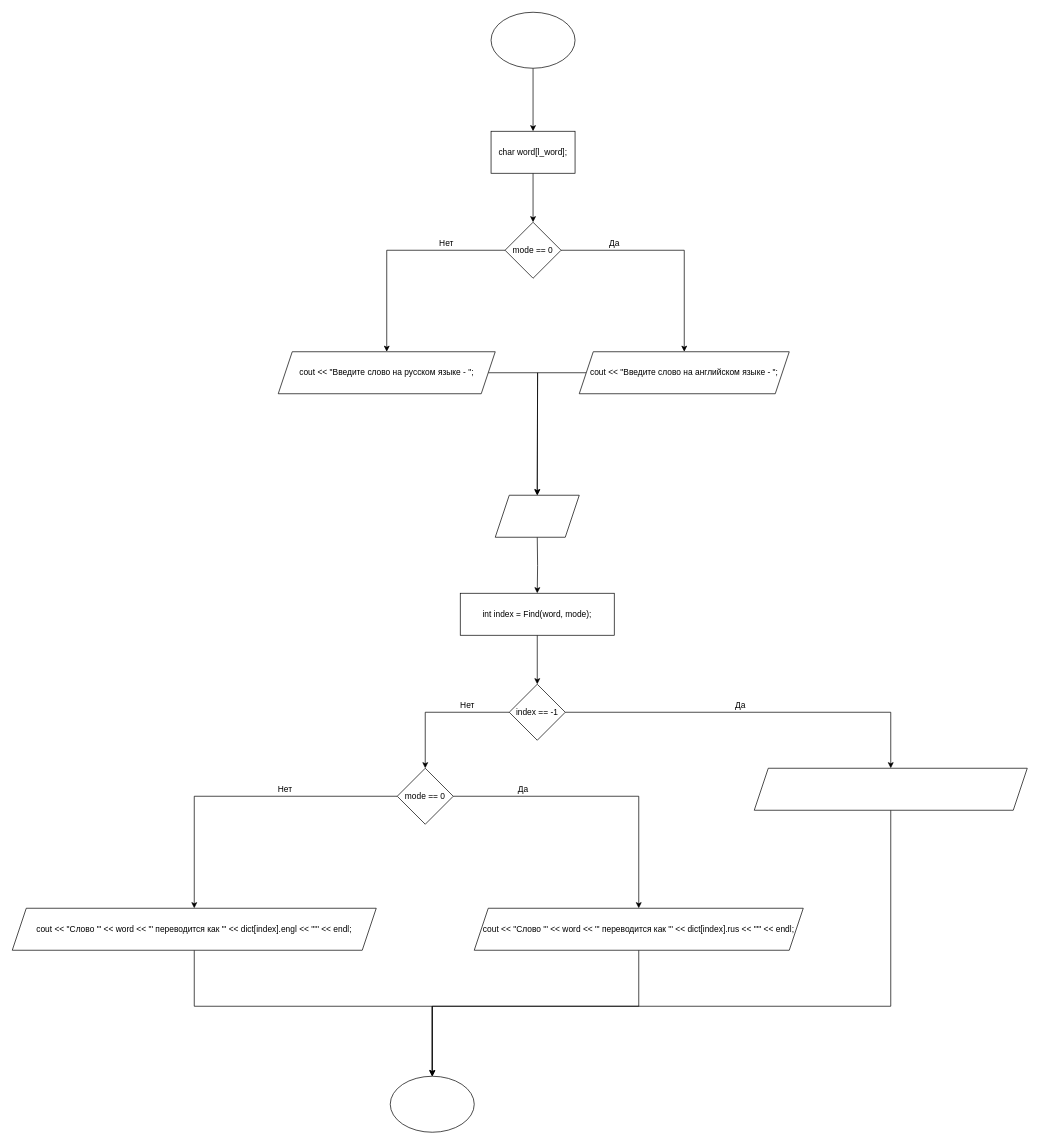
This 1040x1145 diagram has some shape labels left out. The box of each missing label's shape, as (x1, y1, x2, y2) in pixels:
cout << "Слова '" << word << "' нет в словаре!" << endl;: (754, 768, 1027, 810)
Конец: (390, 1076, 474, 1132)
Начало: (490, 12, 575, 68)
сin >> word;: (495, 495, 579, 537)
